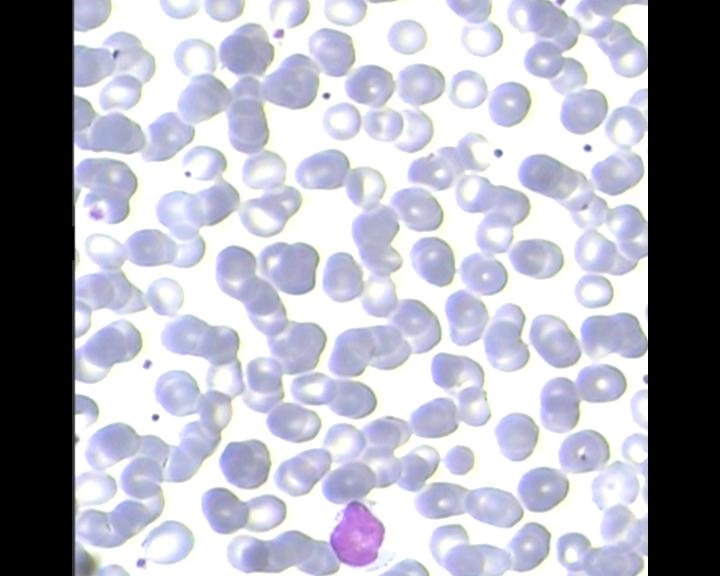lymp: (327, 495, 401, 571)
